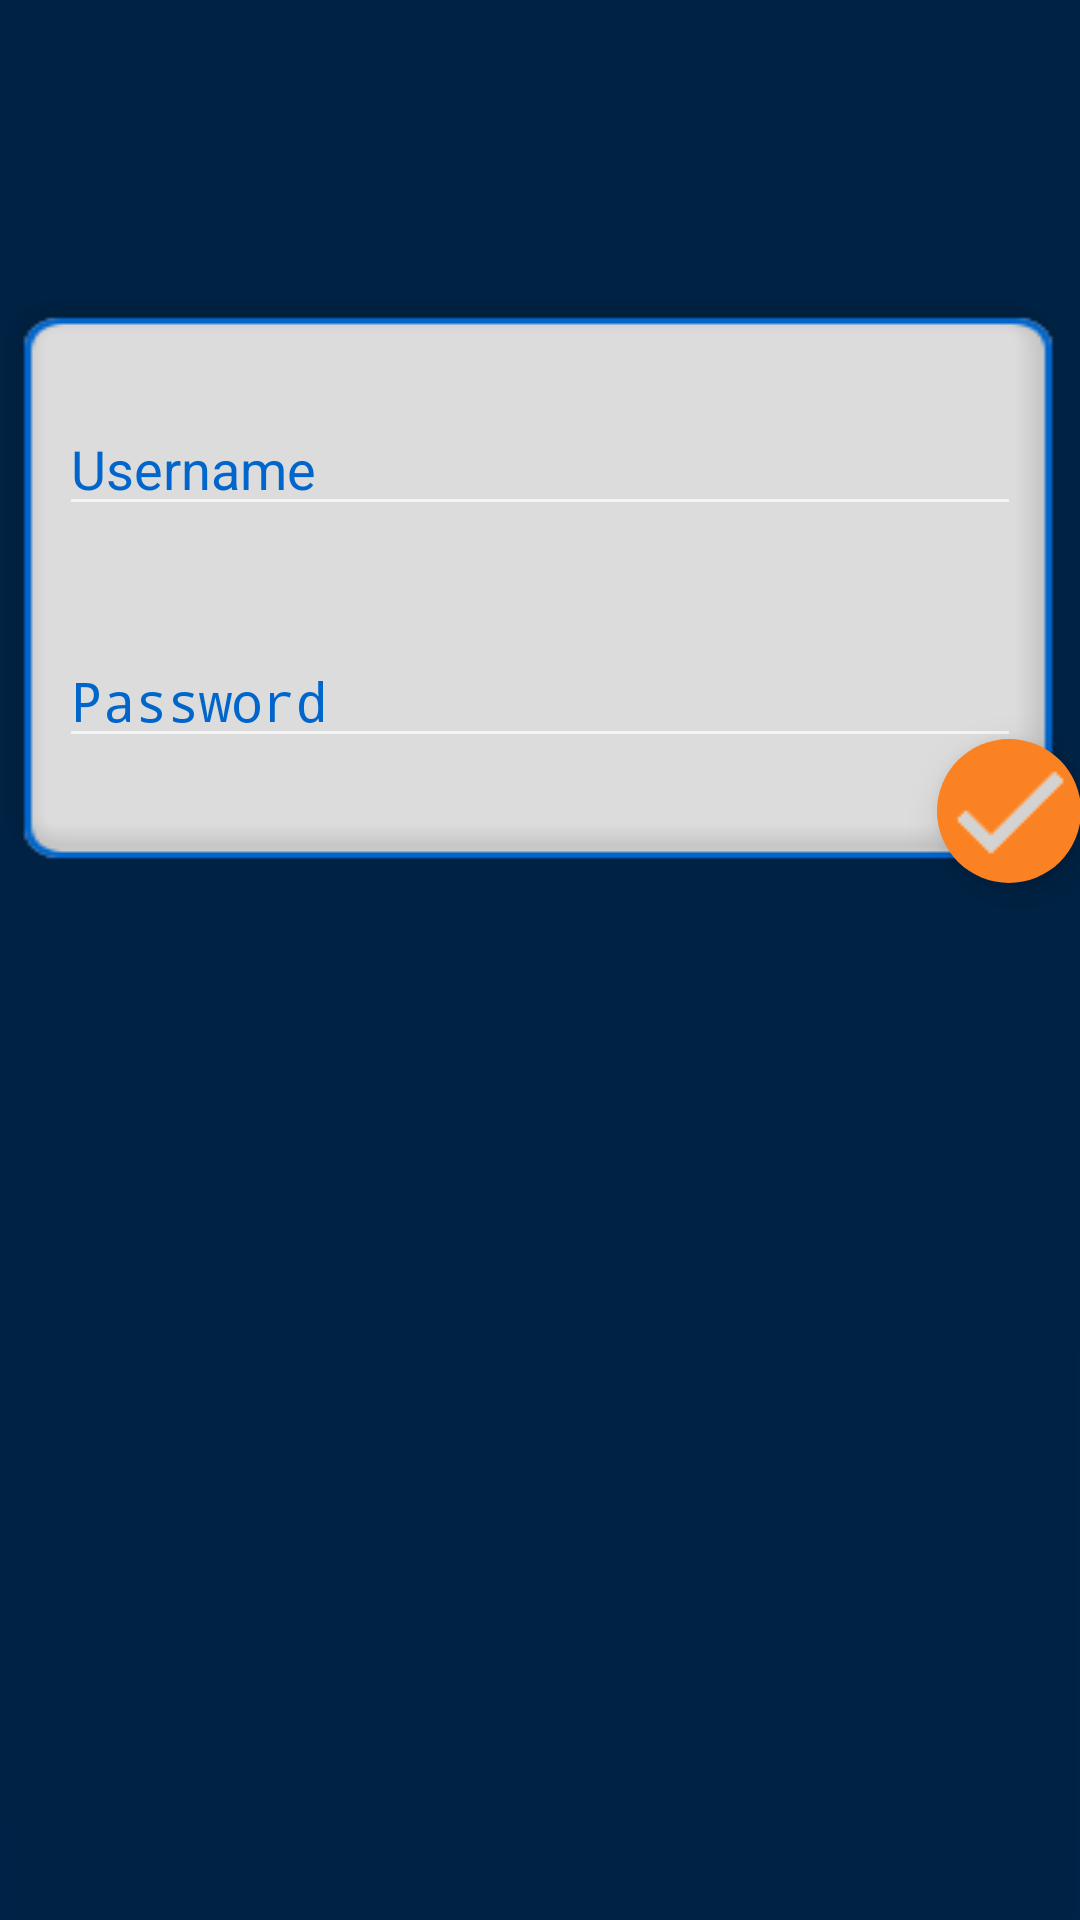

Icon click points for this 1080*1920 phone screenshot, format (x,y):
check: (1008,811)
